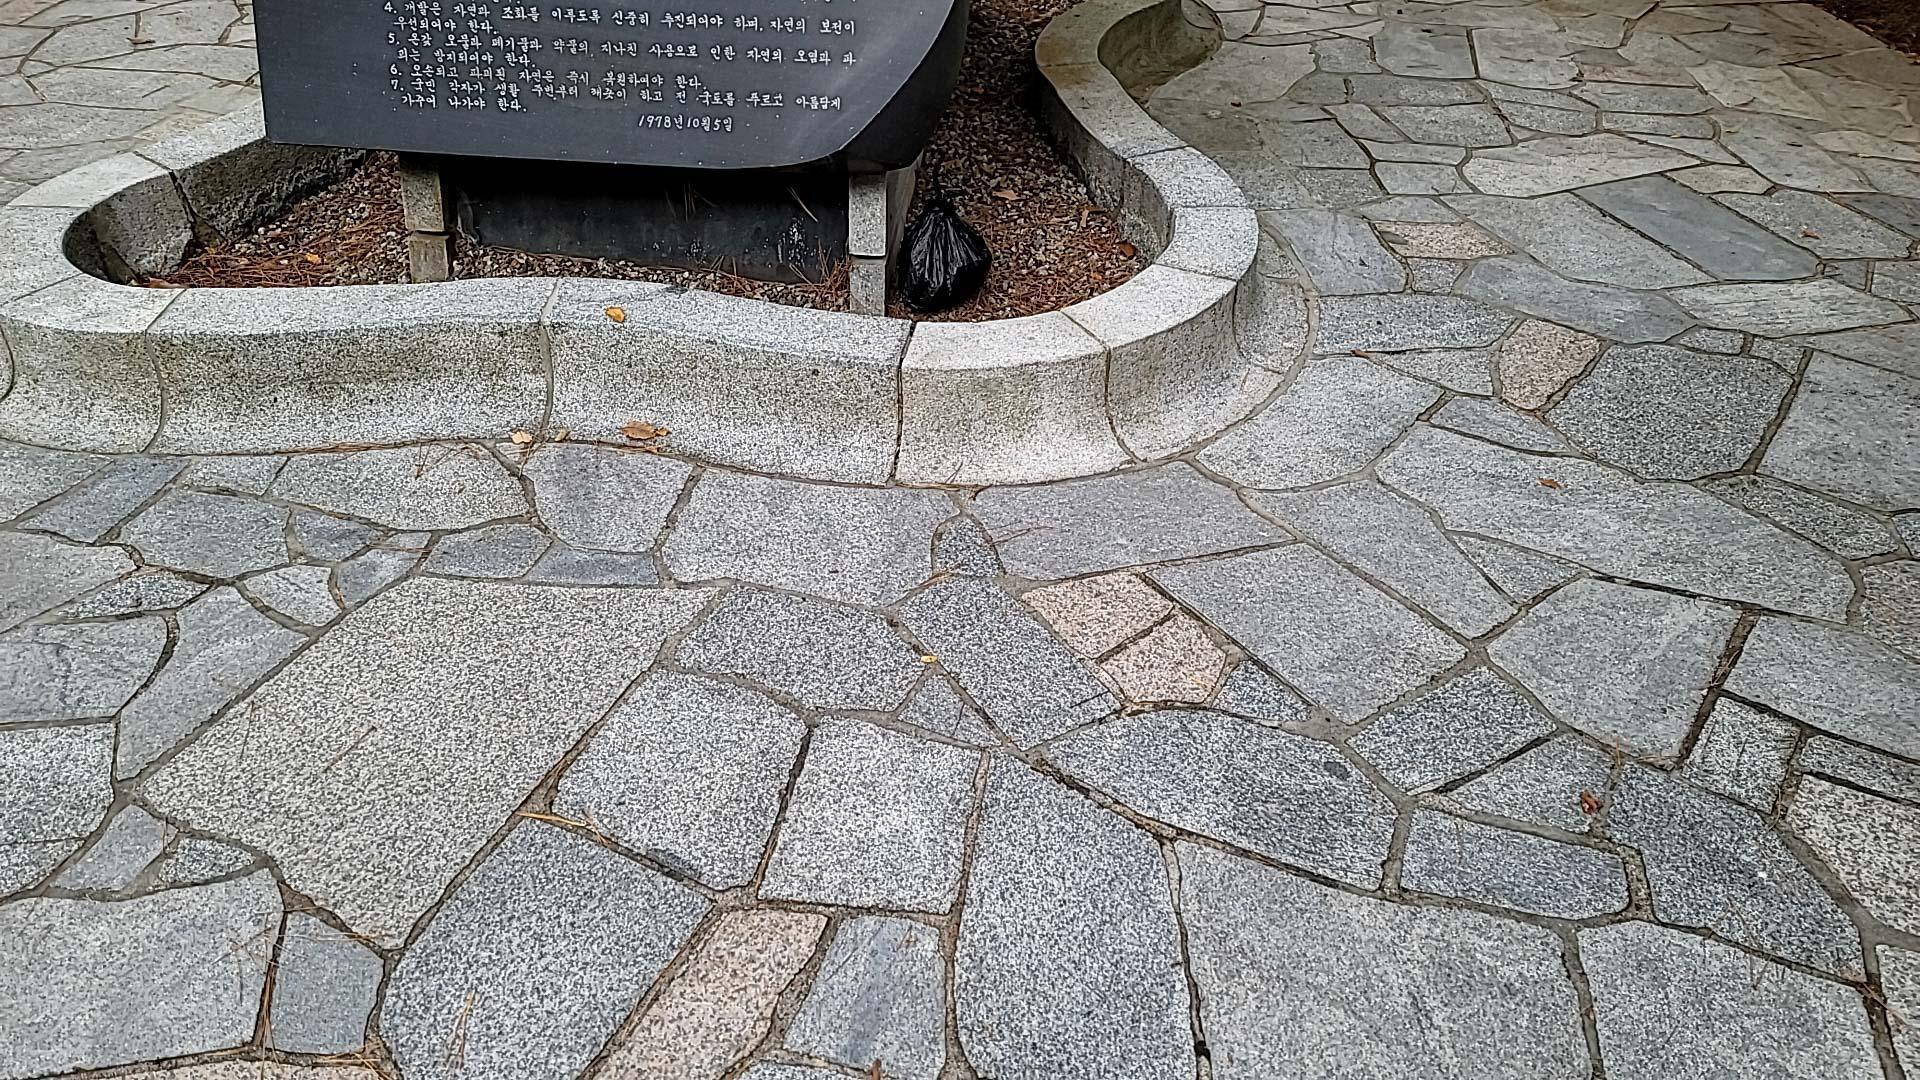black_bag: (887, 185, 996, 320)
